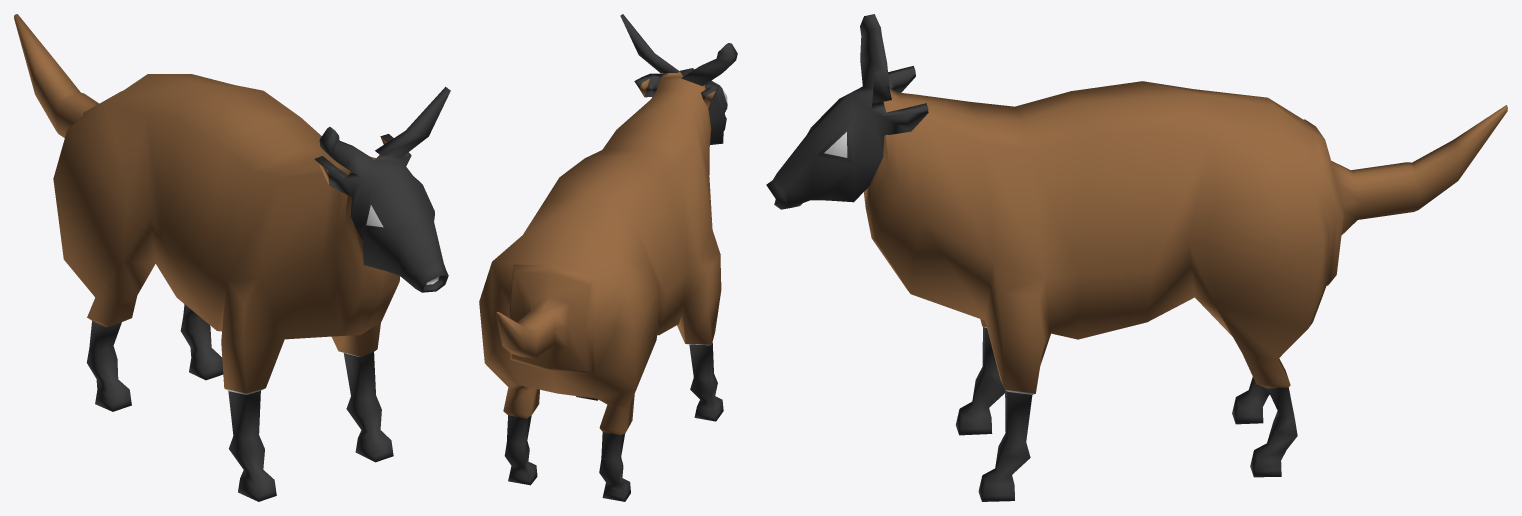
File: deer.fbx
3 renders of one model, left to right at view 1: azimuth 30°, elevation 25°; view 2: azimuth 150°, elevation 25°; view 3: azimuth 270°, elevation 25°, orthographic. The views are drawn at different scales.
Visible parts, largest first — view 1: Sheep; view 2: Sheep; view 3: Sheep.
Boxes of the visible parts, box(x1,y1,x2,y2) form: Sheep: box(14, 14, 450, 501); Sheep: box(479, 14, 737, 501); Sheep: box(766, 14, 1507, 501).
Size of the model in its own units: 70.03 by 131 by 201.
